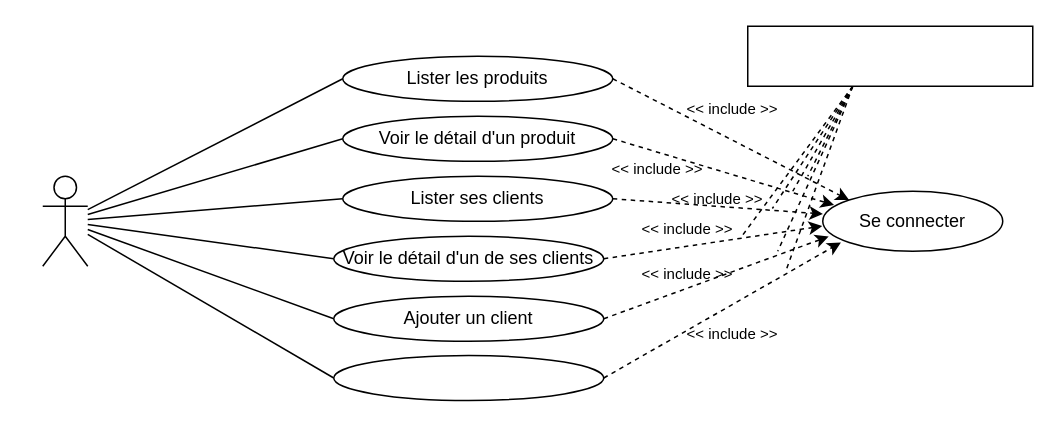
Some shapes in this 1059 by 440 pixel diagram are drawn without their labels. The centre of each missing label's shape, as x and y in pixels:
"Authentification via JWT username + password" belongs at point (889, 55).
"Supprimer un client" belongs at point (468, 377).
"Utilisateur" belongs at point (64, 220).
